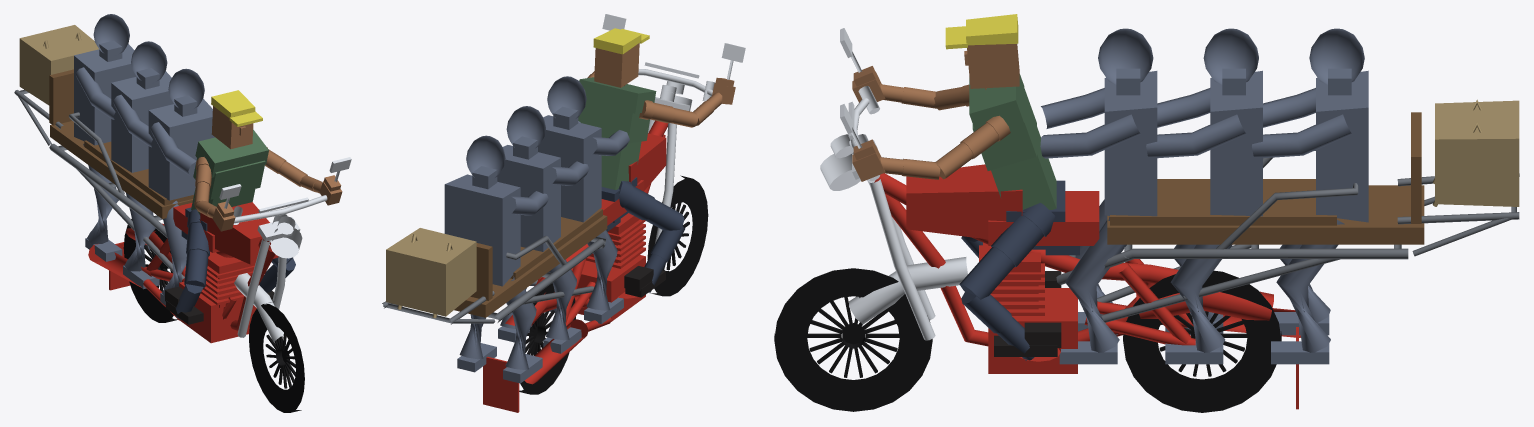
The model's file is habalhabal.glb.
3 renders of one model, left to right at view 1: azimuth 30°, elevation 25°; view 2: azimuth 150°, elevation 25°; view 3: azimuth 270°, elevation 25°, orthographic. The views are drawn at different scales.
Visible parts, largest first — view 1: Body, Passenger_0, Passenger_1, Passenger_2, Spin (×2), Fork, Plank, Cargo, Torso, PlankFrame, Leg_R, Hat (+8 smaller); view 2: Passenger_2, Body, Passenger_1, Passenger_0, Cargo, Spin (×2), Plank, Torso, PlankFrame, Fork, Leg_R, Head (+8 smaller); view 3: Body, Spin (×2), Passenger_0, Passenger_2, Passenger_1, Plank, PlankFrame, Cargo, Fork, Torso, Leg_L, Head (+10 smaller).
Boxes of the visible parts, x1,y1,x2,y2 form: Body: [88, 202, 278, 343]; Passenger_0: [148, 68, 214, 305]; Passenger_1: [111, 41, 173, 289]; Passenger_2: [74, 14, 150, 261]; Spin (×2): [123, 218, 304, 412]; Fork: [233, 195, 327, 341]; Plank: [49, 69, 193, 218]; Cargo: [19, 25, 98, 105]; Torso: [191, 129, 268, 215]; PlankFrame: [14, 89, 184, 279]; Leg_R: [184, 209, 210, 288]; Hat: [211, 90, 262, 126]; Passenger_2: [444, 135, 548, 383]; Body: [483, 120, 668, 412]; Passenger_1: [497, 106, 589, 353]; Passenger_0: [538, 76, 629, 323]; Cargo: [386, 228, 476, 318]; Spin (×2): [519, 175, 708, 394]; Plank: [454, 208, 607, 317]; Torso: [578, 77, 656, 189]; PlankFrame: [382, 236, 605, 324]; Fork: [638, 62, 715, 243]; Leg_R: [618, 181, 684, 230]; Head: [594, 43, 639, 87]; Body: [874, 164, 1300, 409]; Spin (×2): [774, 268, 1281, 412]; Passenger_0: [1040, 28, 1157, 364]; Passenger_2: [1252, 28, 1368, 364]; Passenger_1: [1146, 28, 1262, 364]; Plank: [1107, 112, 1424, 244]; PlankFrame: [1056, 150, 1519, 322]; Cargo: [1432, 99, 1519, 206]; Fork: [820, 86, 967, 340]; Torso: [969, 74, 1056, 209]; Leg_L: [959, 203, 1055, 299]; Head: [964, 44, 1019, 89].
Bounding box in the file's own units: 0.79 × 1.6 × 2.82.
